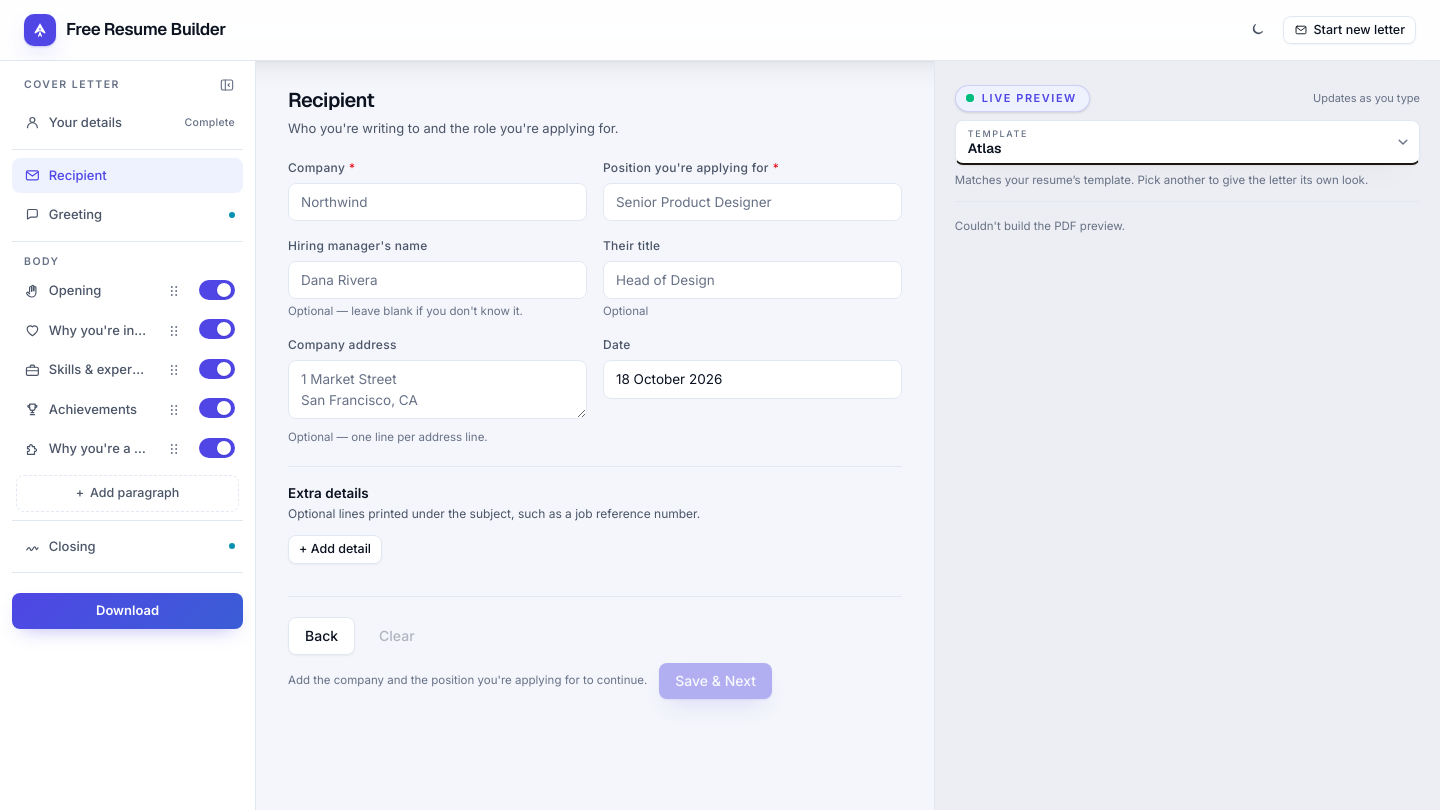
Scenario: CoverLetterShell › collapses the sidebar to an icon rail and back, by button and Ctrl+B
The image size is (1440, 810).
Expected: the heading "Recipient" is shown, [288,87,374,113]
Step 1. Click the button named "Collapse sidebar" → coordinates (227, 85), box [211,69,243,101]
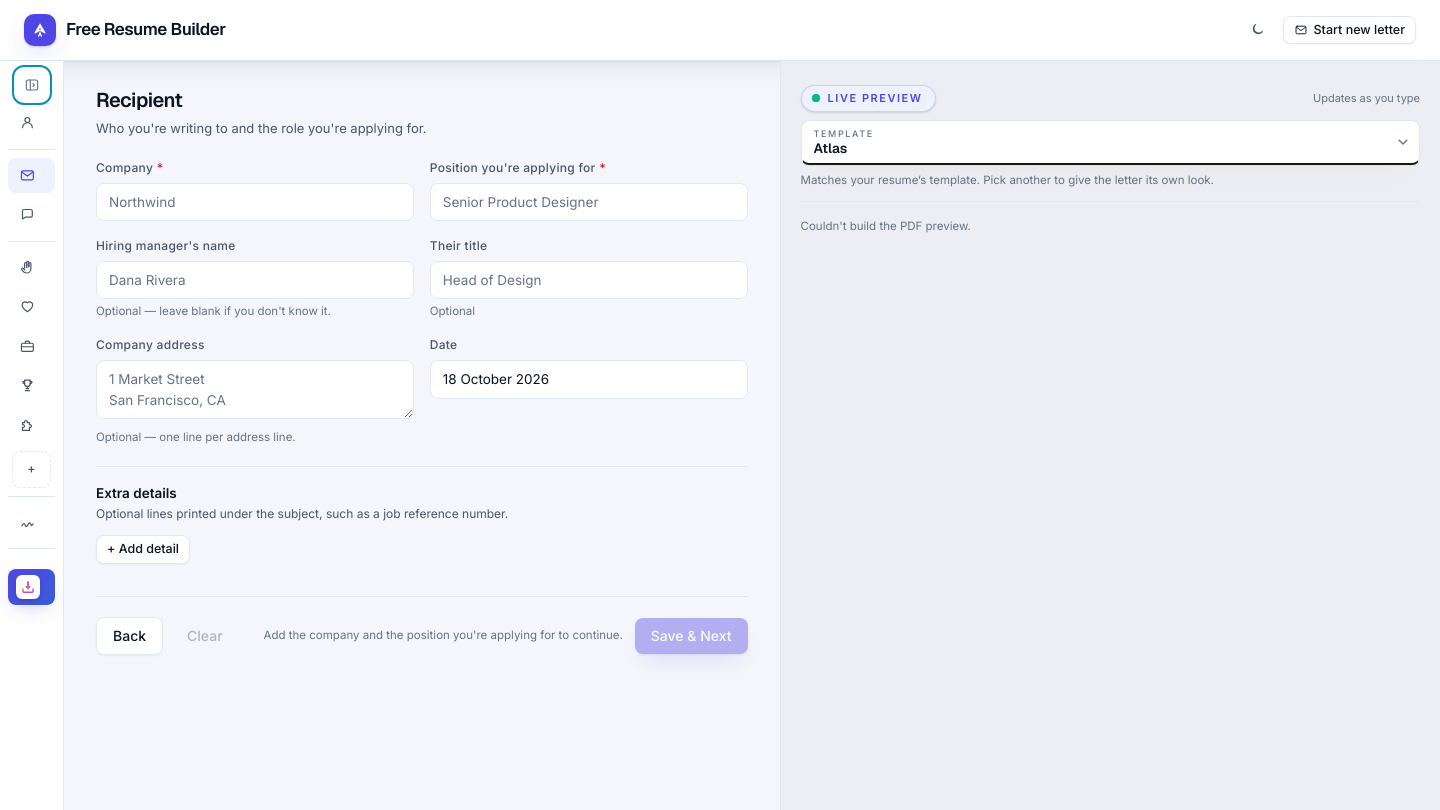
Expected: the button named "Expand sidebar" is collapsed, [16,69,48,101]
Expected: the text "Cover letter" is gone
Expected: the switch is gone
Step 2. Click the button named "Greeting" → coordinates (32, 215), box [8,197,55,232]
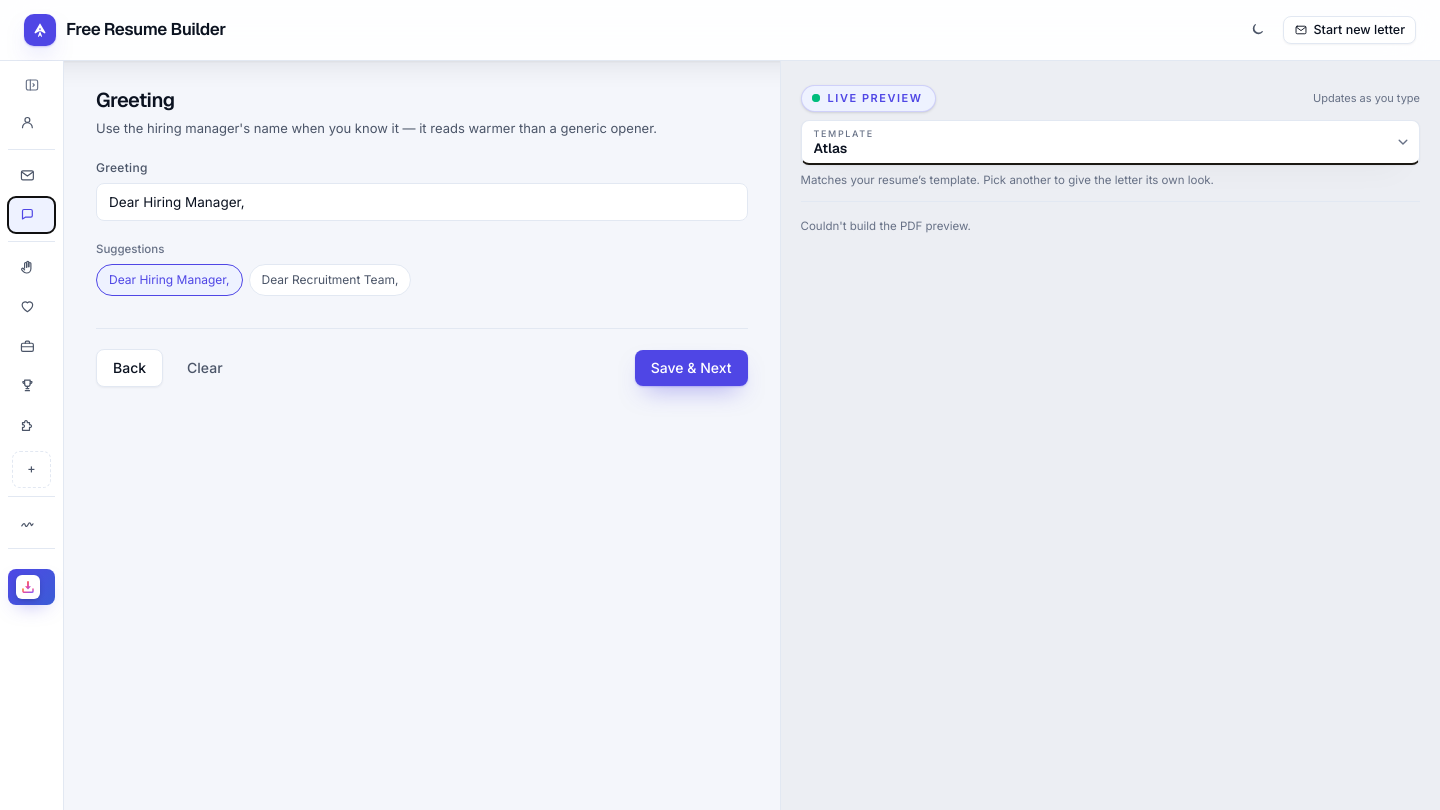
Expected: the heading "Greeting" is shown, [96,87,175,113]
Step 3. Type keys "{Control>}b{/Control}"
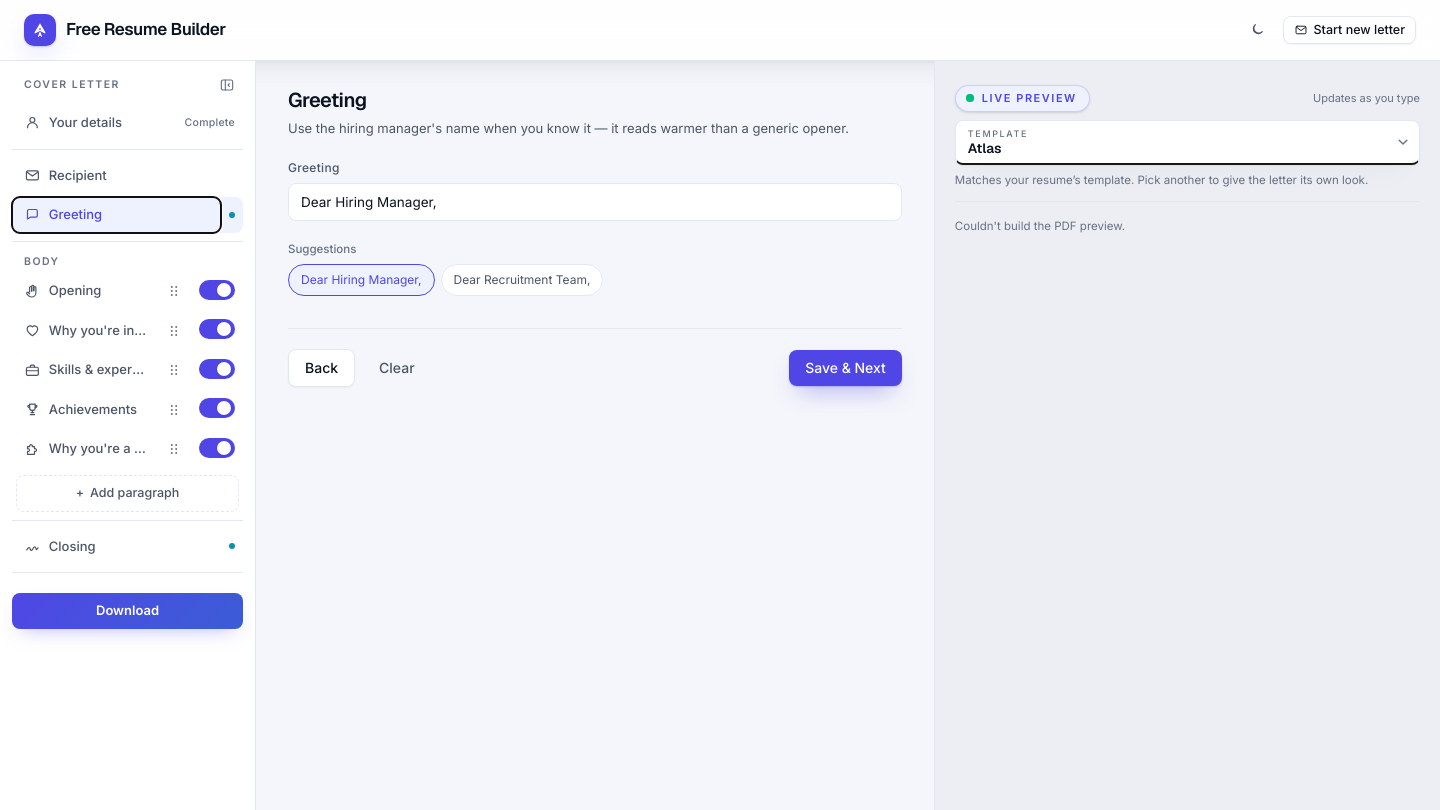
Expected: the button named "Collapse sidebar" is expanded, [211,69,243,101]
Expected: the switch named "Skip Opening" is shown, [199,280,235,300]
